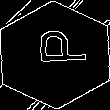P_W: (25, 36, 85, 74)
